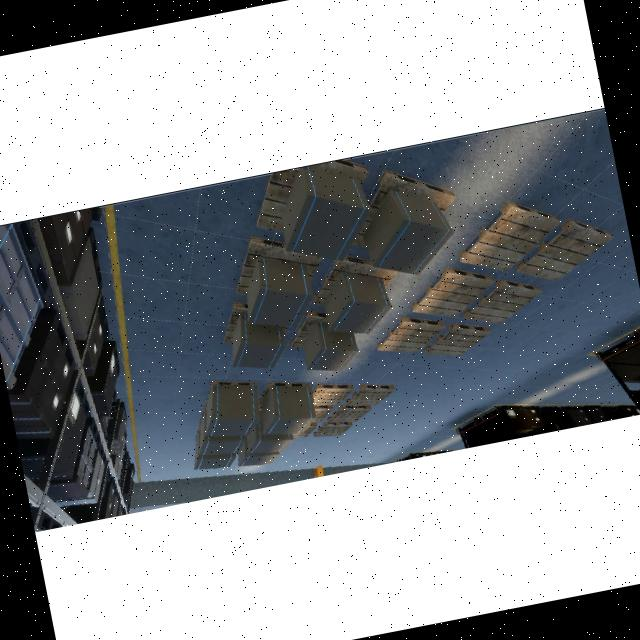wooden_pallet: (368, 170, 456, 215)
